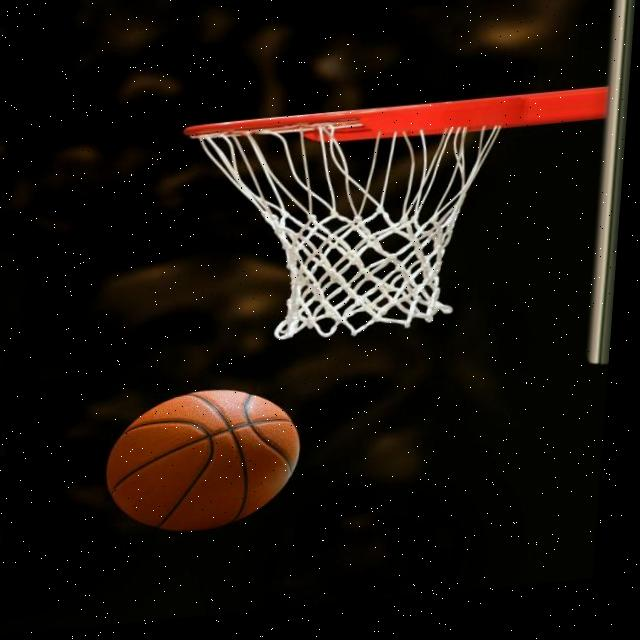Basketball: (108, 378, 309, 535)
